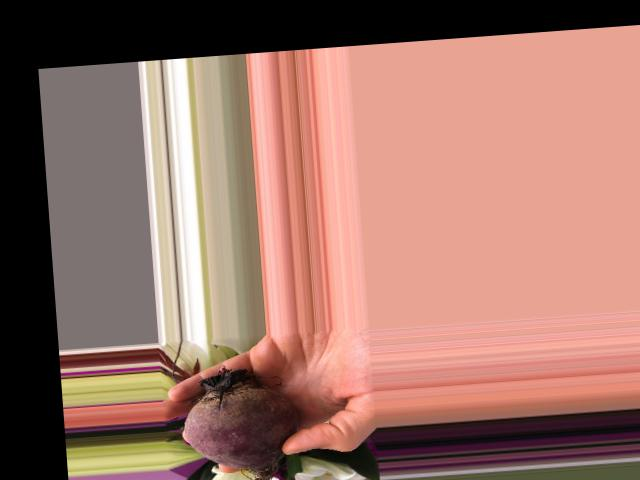beet: (179, 361, 302, 480)
